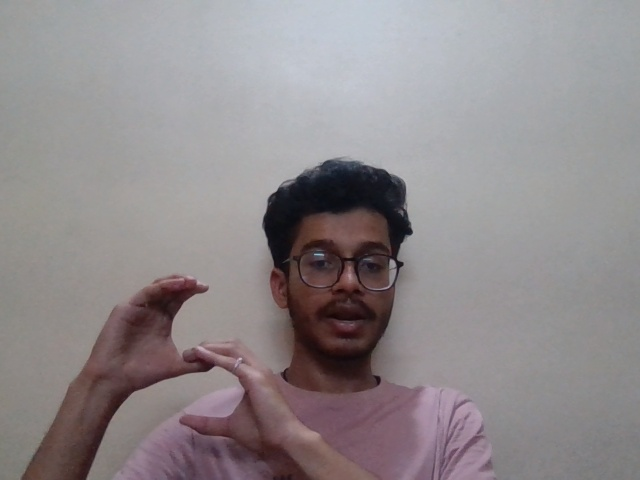S: (72, 268, 312, 449)
